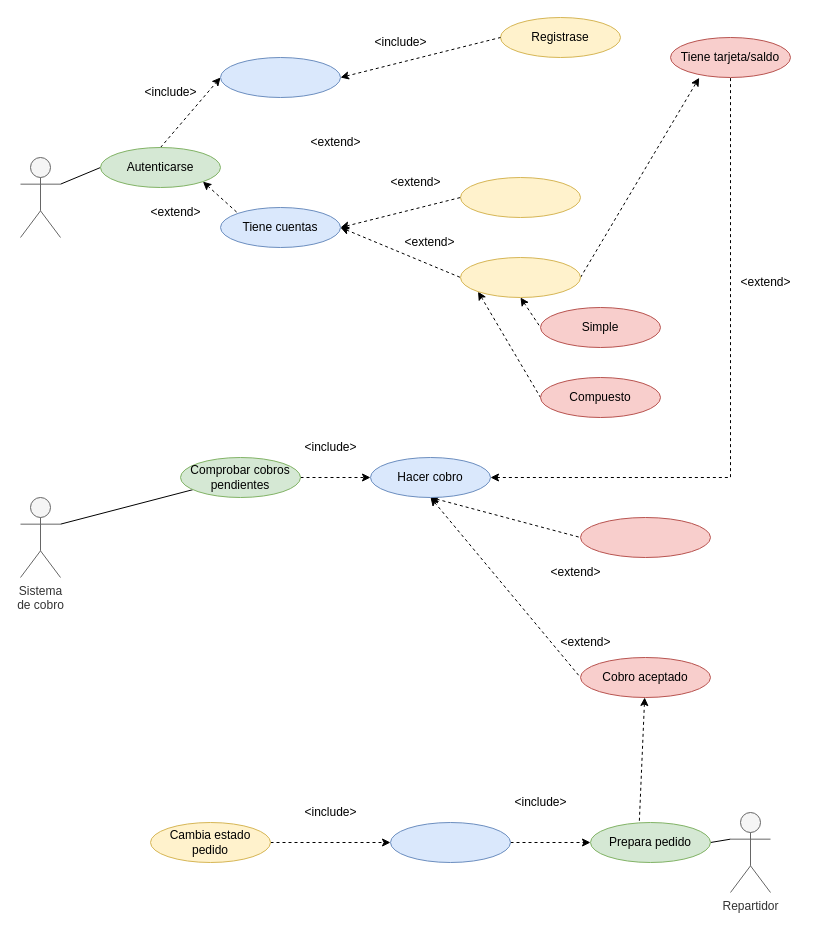
This 818x931 diagram has some shape labels left out. The box of each missing label's shape, as (x1, y1, x2, y2) in pixels:
Aumentar creditos: (460, 176, 580, 218)
Clientes: (20, 156, 60, 238)
No tiene cuenta: (220, 56, 340, 98)
Realizar pedidos: (460, 256, 580, 298)
Rechazado: (580, 516, 710, 558)
Se entrega pedido: (390, 822, 510, 862)
